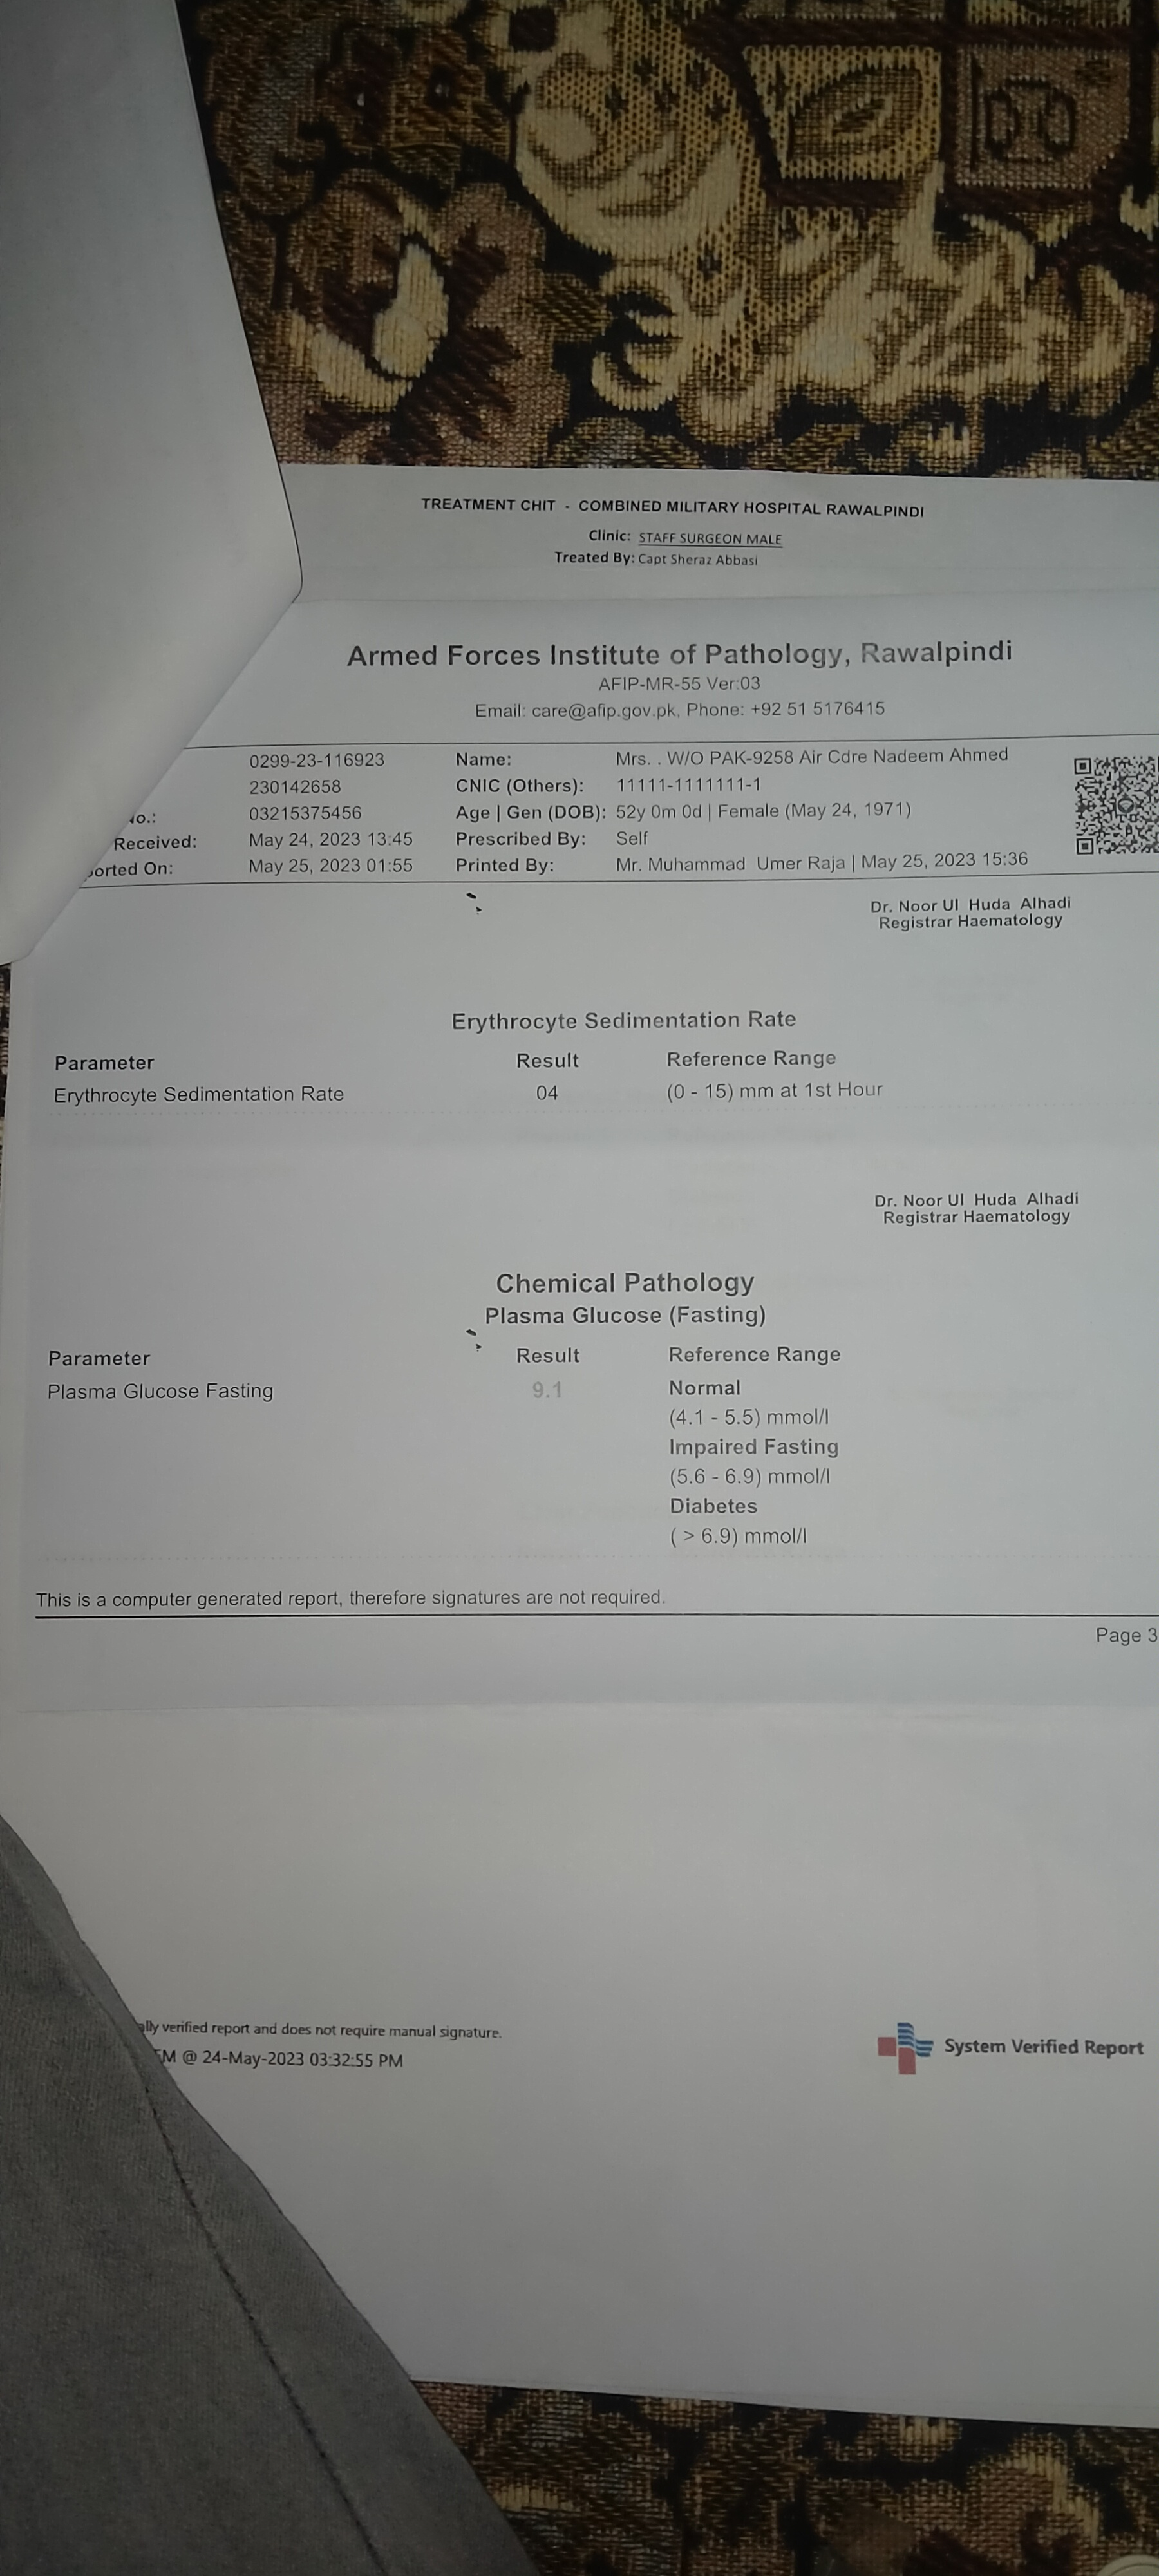report: (30, 877, 1159, 1580)
